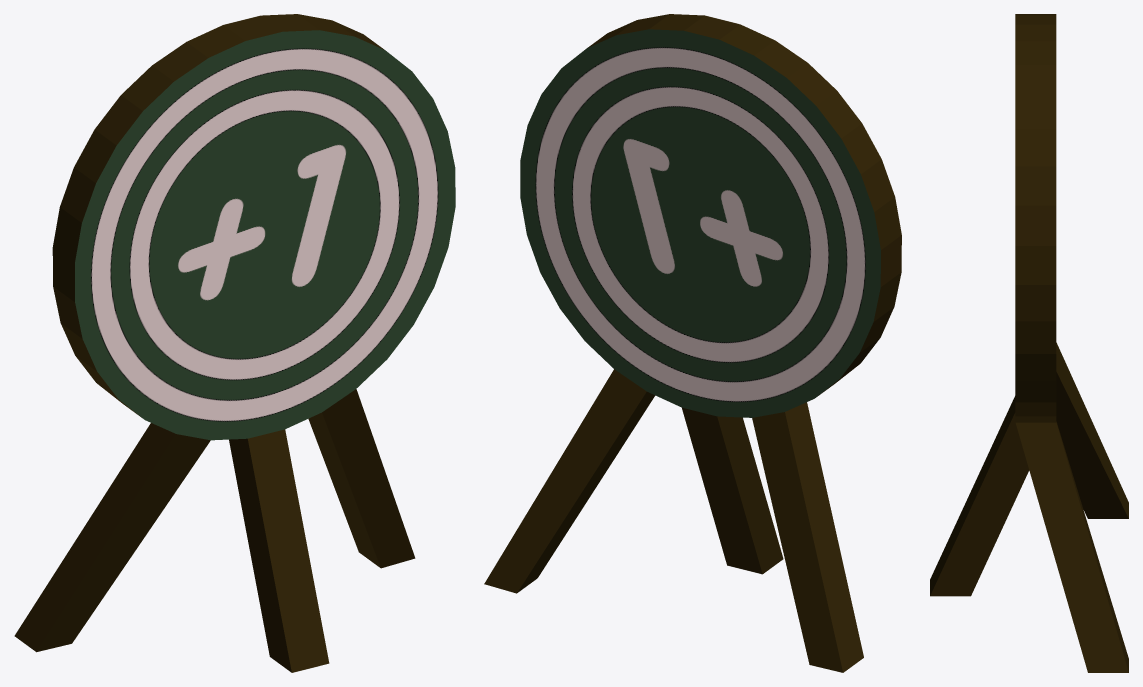
File: renk5.fbx
3 views of the same model, side by side, from view 1: azimuth 30°, elevation 25°; view 2: azimuth 150°, elevation 25°; view 3: azimuth 270°, elevation 25° (orthographic). The views are drawn at different scales.
Parts seen in each view (by area): view 1: Cylinder; view 2: Cylinder; view 3: Cylinder.
Boxes of the visible parts, x1,y1,x2,y2 form: Cylinder: [14, 14, 455, 672]; Cylinder: [484, 14, 901, 672]; Cylinder: [930, 14, 1128, 672].
Bounding box in the file's own units: 199 × 299 × 97.2.
Materials: 2 (1 with a texture image).
